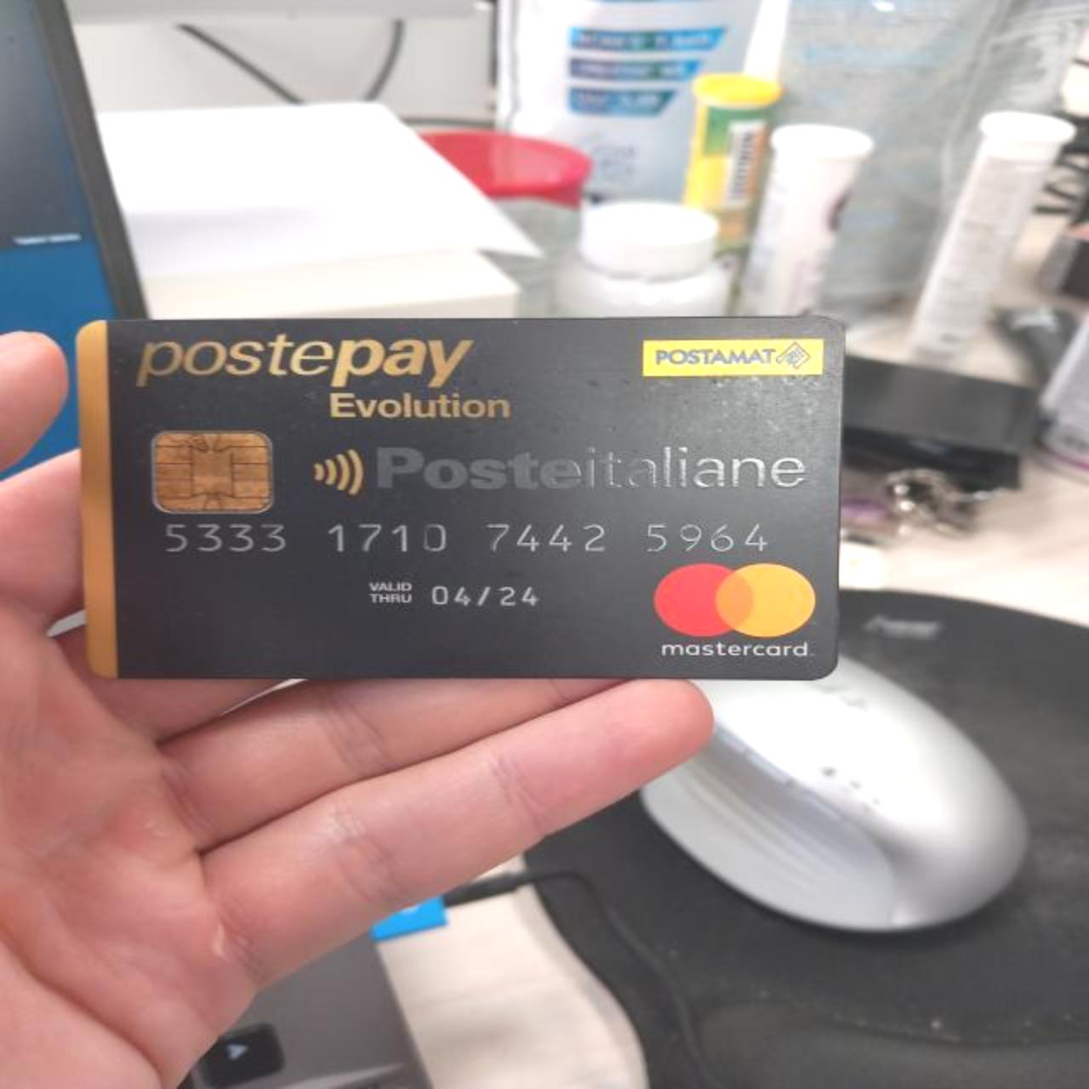credit_card: (61, 313, 854, 681)
